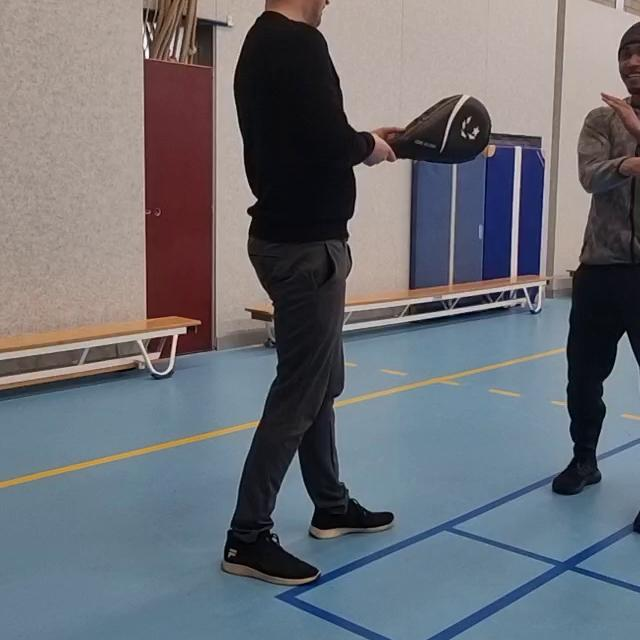paddle: (384, 90, 499, 170)
